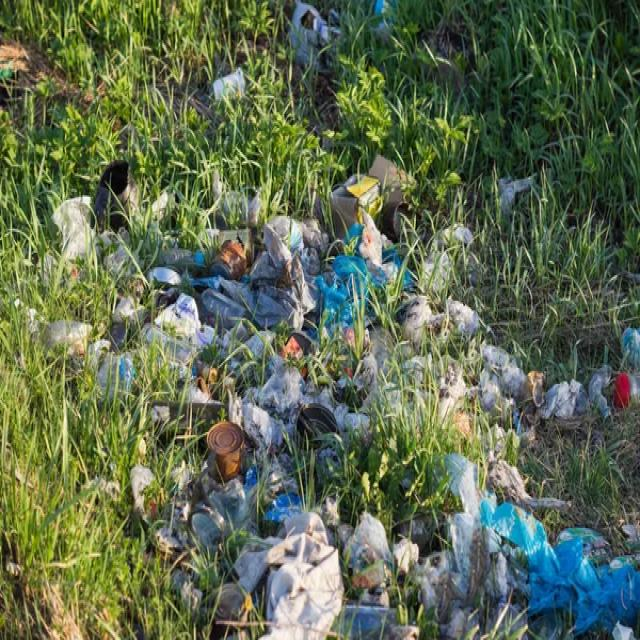garbage: (42, 89, 640, 640)
